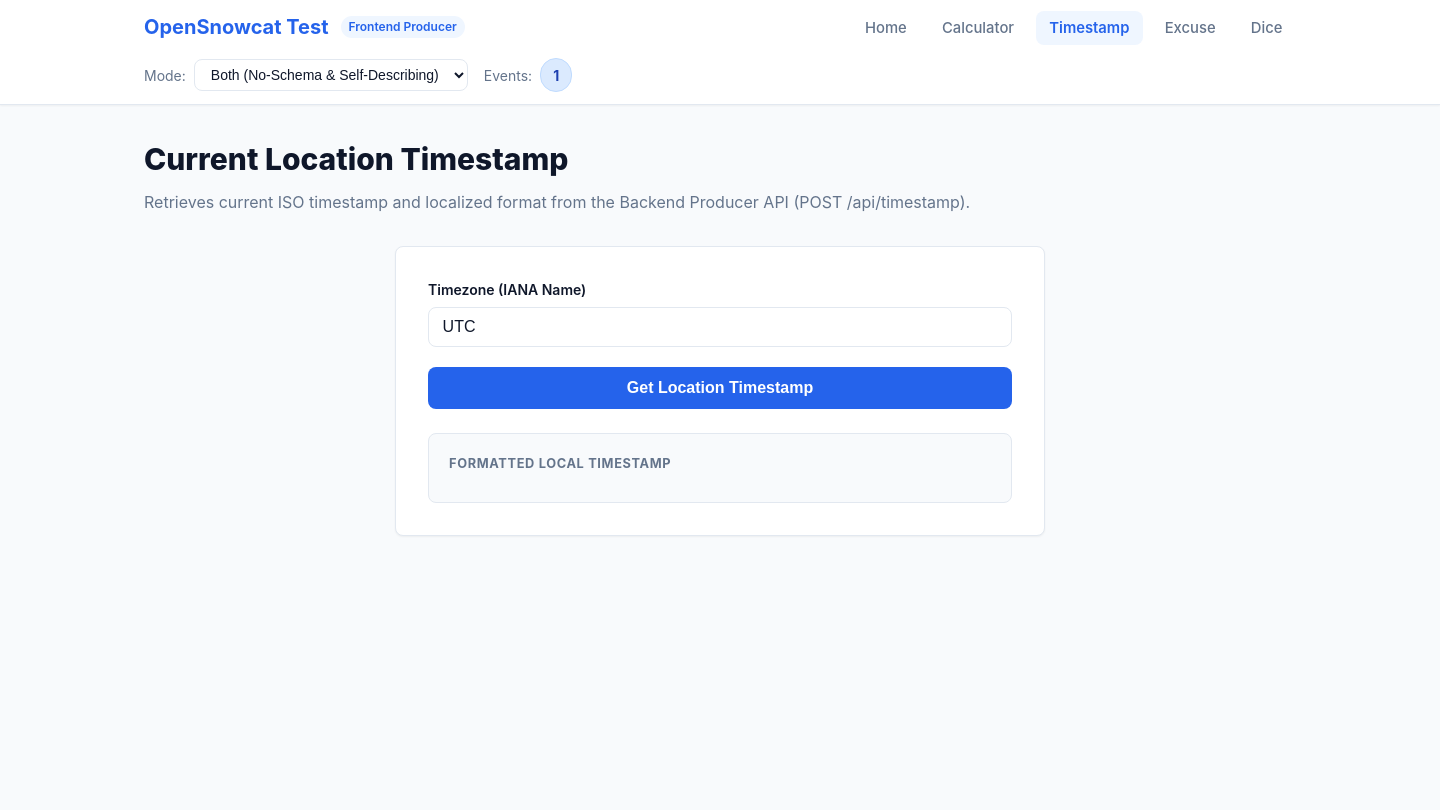
Test case: Network and API Error Resilience - End-to-End Integration › renders error alert when Backend API returns HTTP 500 on /timestamp
The image size is (1440, 810).
Expected: the text with test id "frontend-events-counter" reads "1", [553,67,559,84]
Click the button with test id "btn-timestamp-fetch". click: (720, 388)
box: [428,367,1012,409]
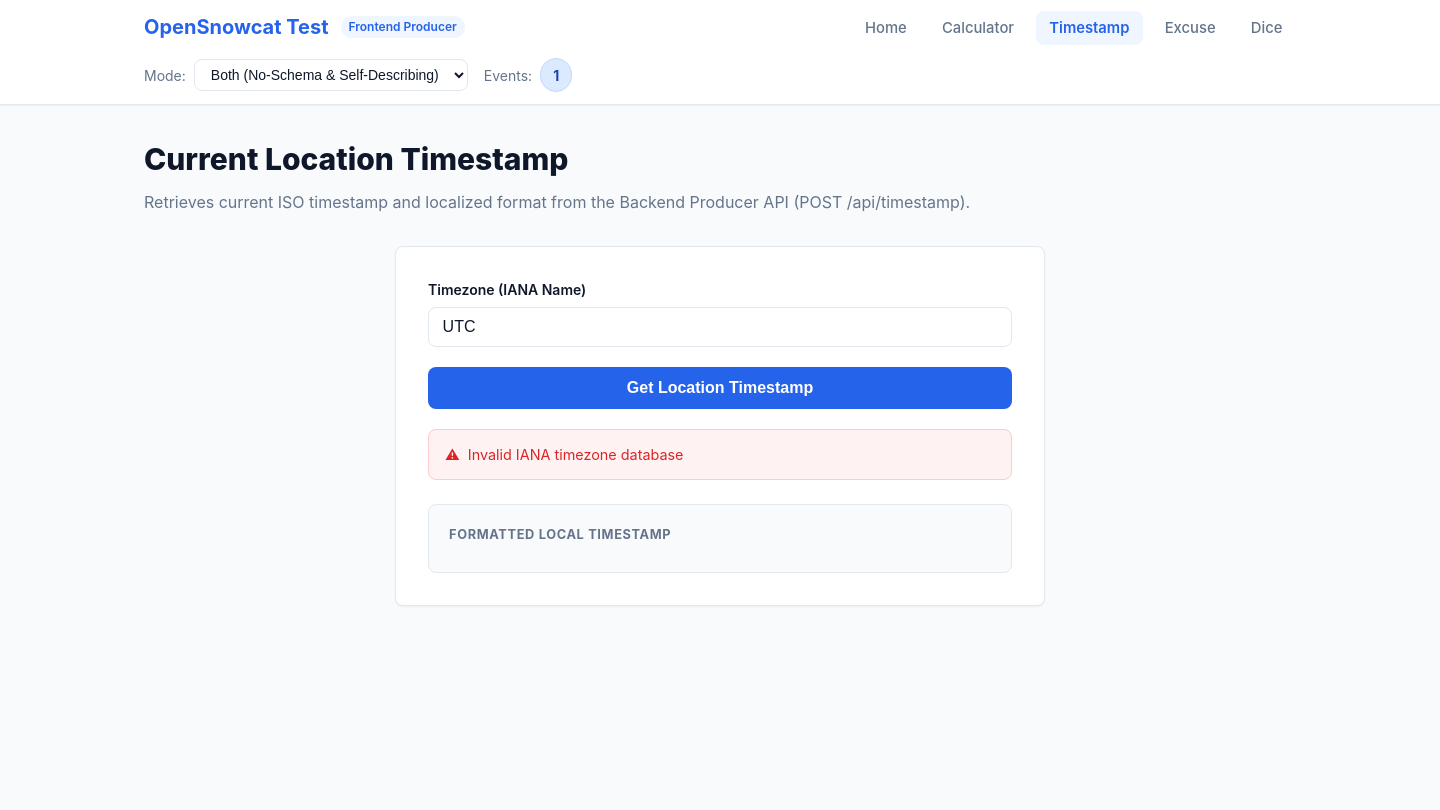
Expected: the message "⚠ Invalid IANA timezone database" is shown, [428,429,1012,480]
Expected: the message shows "Invalid IANA timezone database", [468,446,684,463]
